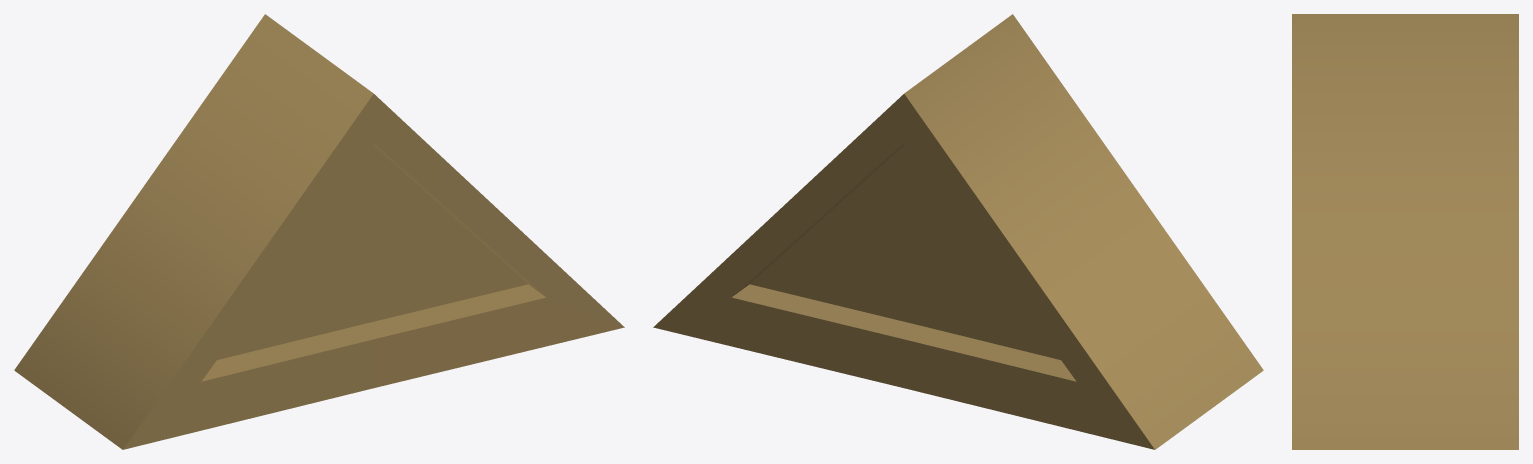
The model's file is Arch-triangle.obj.
3 views of the same model, side by side, from view 1: azimuth 30°, elevation 25°; view 2: azimuth 150°, elevation 25°; view 3: azimuth 270°, elevation 25° (orthographic). The views are drawn at different scales.
Parts seen in each view (by area): view 1: pCube17; view 2: pCube17; view 3: pCube17.
Boxes of the visible parts, bbox=[...] form: pCube17: bbox=[14, 14, 624, 449]; pCube17: bbox=[653, 14, 1263, 449]; pCube17: bbox=[1292, 14, 1518, 449].
Size of the model in its own units: 16 by 8.99 by 6.
Materials: 1 (1 with a texture image).
